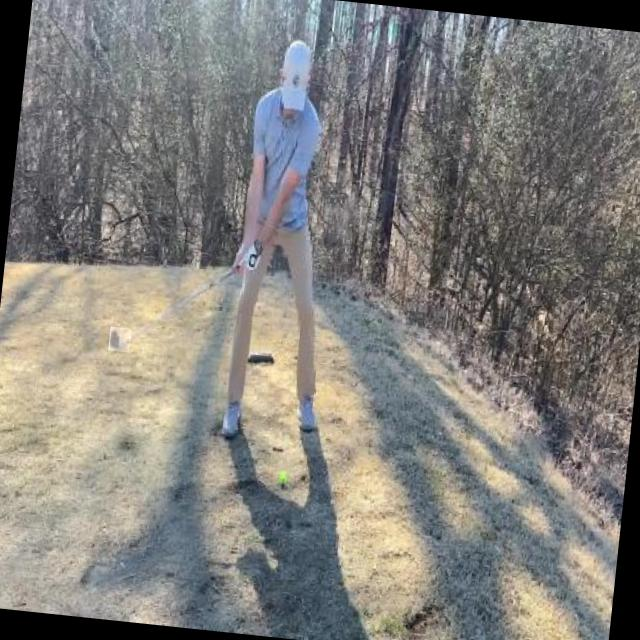club head: (108, 326, 131, 352)
